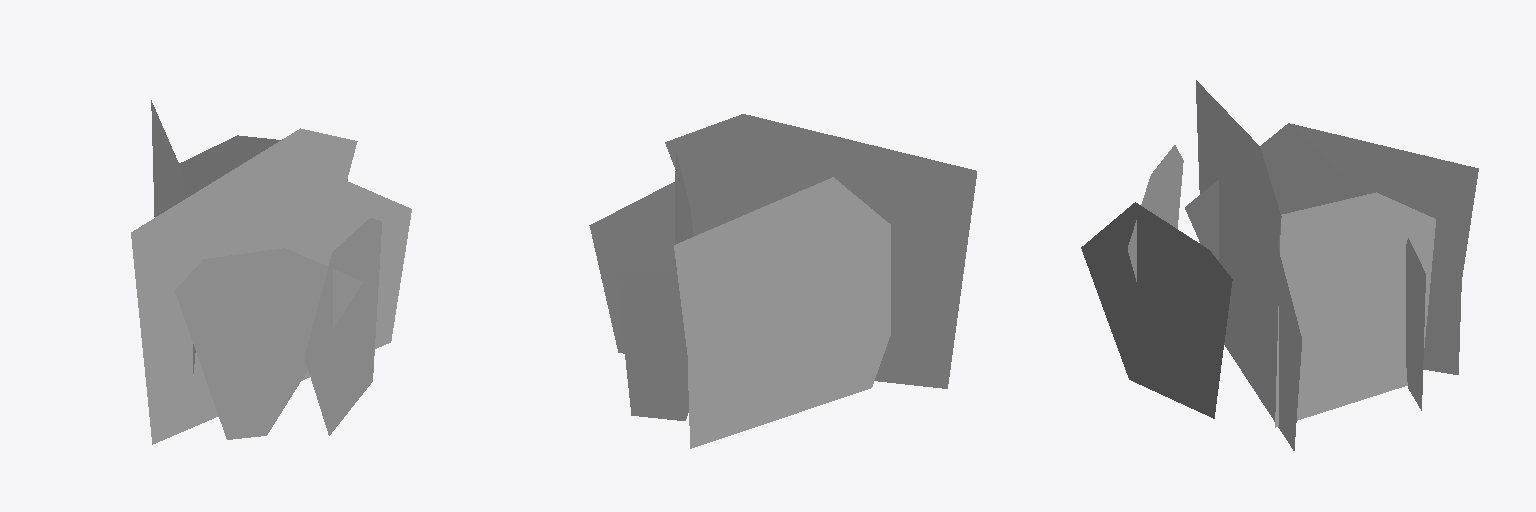
The model's file is grass1.obj.
The picture shows the model from 3 angles: view 1: azimuth 30°, elevation 25°; view 2: azimuth 150°, elevation 25°; view 3: azimuth 270°, elevation 25°; orthographic projection.
Visible parts, largest first — view 1: Billboard_2K_Albedo.004; view 2: Billboard_2K_Albedo.004; view 3: Billboard_2K_Albedo.004.
Boxes of the visible parts, <box> form: Billboard_2K_Albedo.004: <box>131,100,411,444</box>; Billboard_2K_Albedo.004: <box>589,114,976,448</box>; Billboard_2K_Albedo.004: <box>1081,80,1478,450</box>.
Bounding box in the file's own units: 0.5602 × 0.4045 × 0.577.